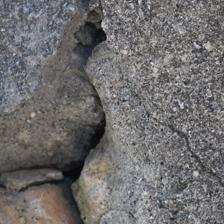Crack: (109, 18, 224, 162), (38, 0, 114, 130)
